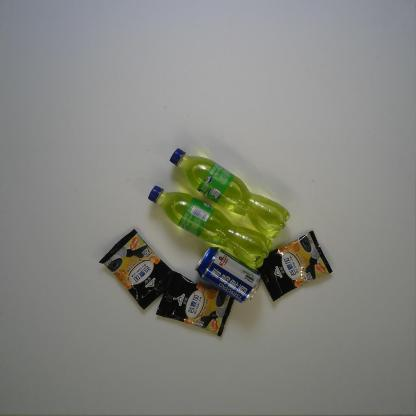Alcohol: (193, 245, 263, 304)
Drink: (169, 147, 291, 240), (147, 184, 273, 270)
Instant Drink: (98, 228, 173, 310), (257, 230, 334, 303), (155, 270, 235, 338)
